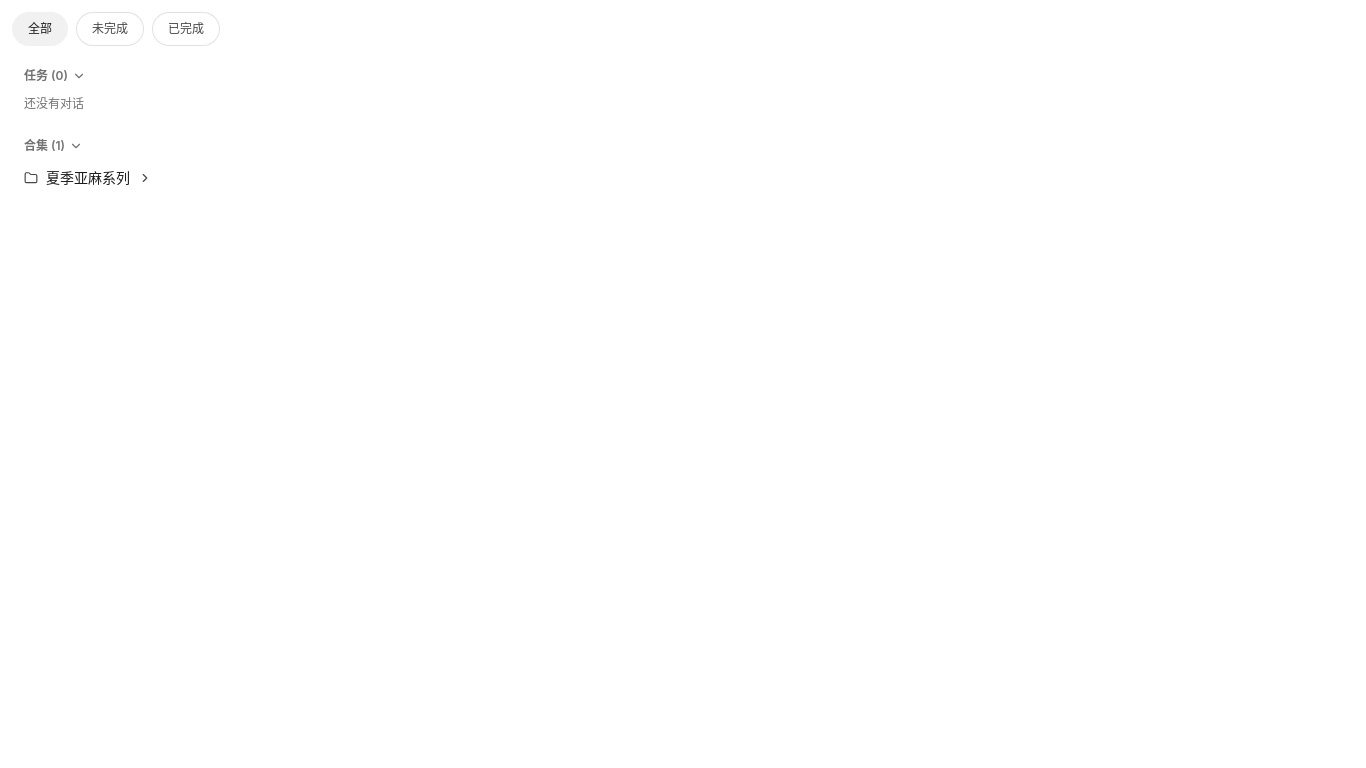
Test: SidebarConversations › 合集内：第一页 10 段，展开后接上第 11 段
Click the button with aria-label "夏季亚麻系列 (11)" at (88,178), box [24,168,1342,188]
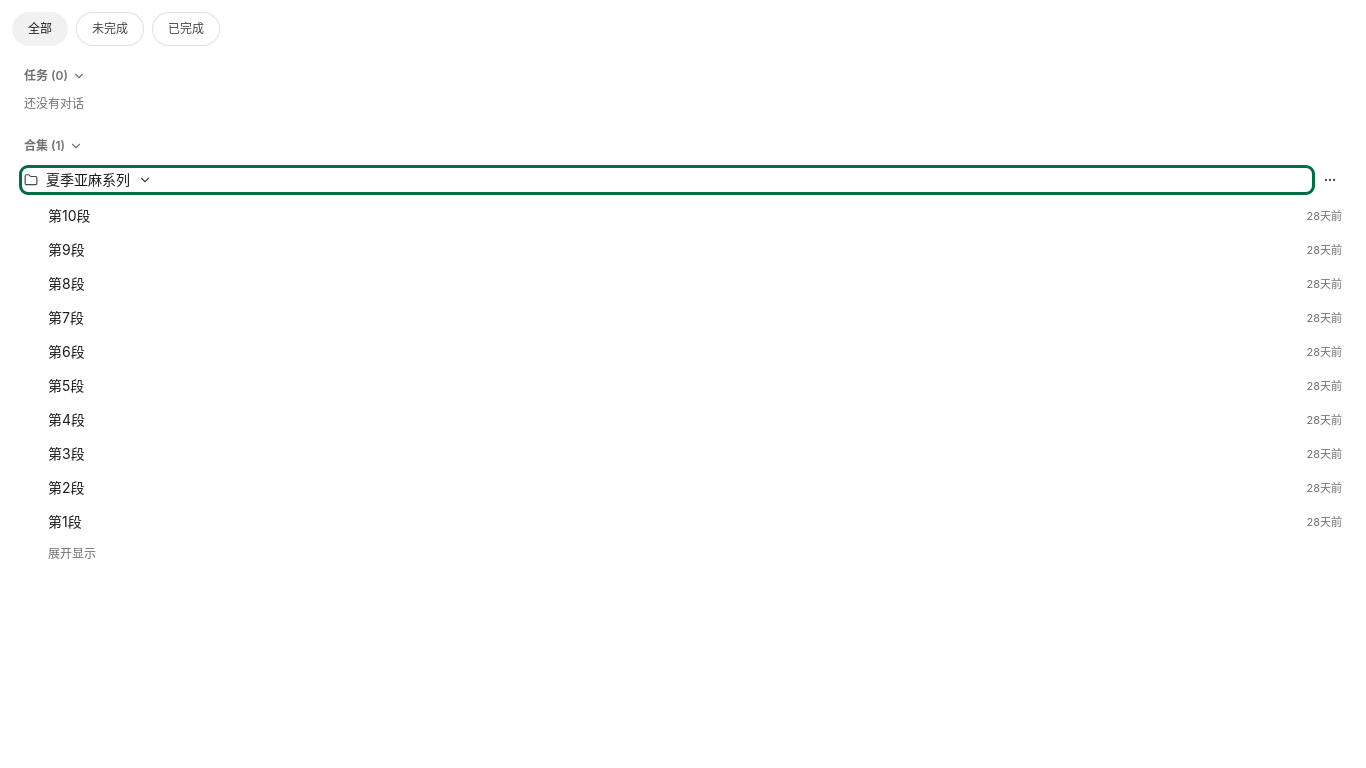
Check: the number of links "第10段" is 10
Click the button with aria-label "展开显示 夏季亚麻系列" at (72,554), box [36,540,1354,568]
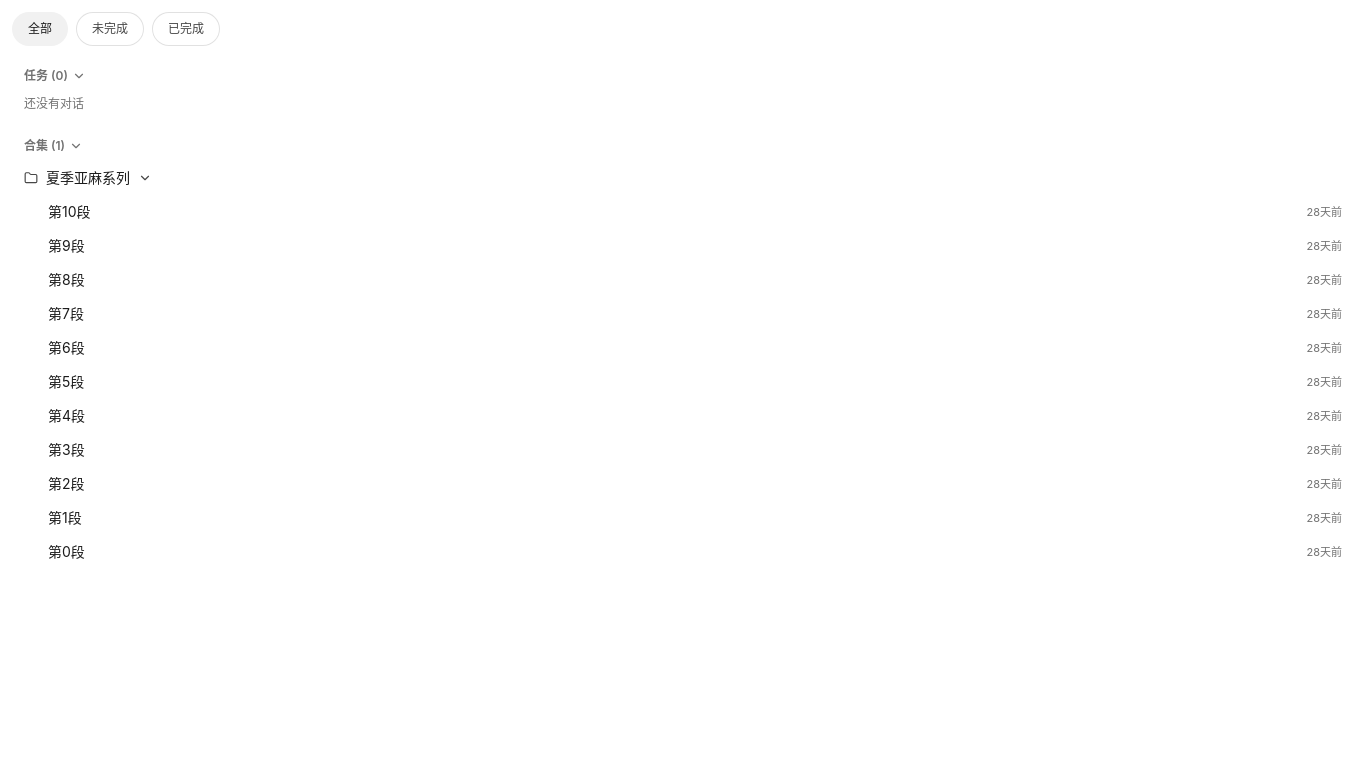
Check: the number of links "第10段" is 11
